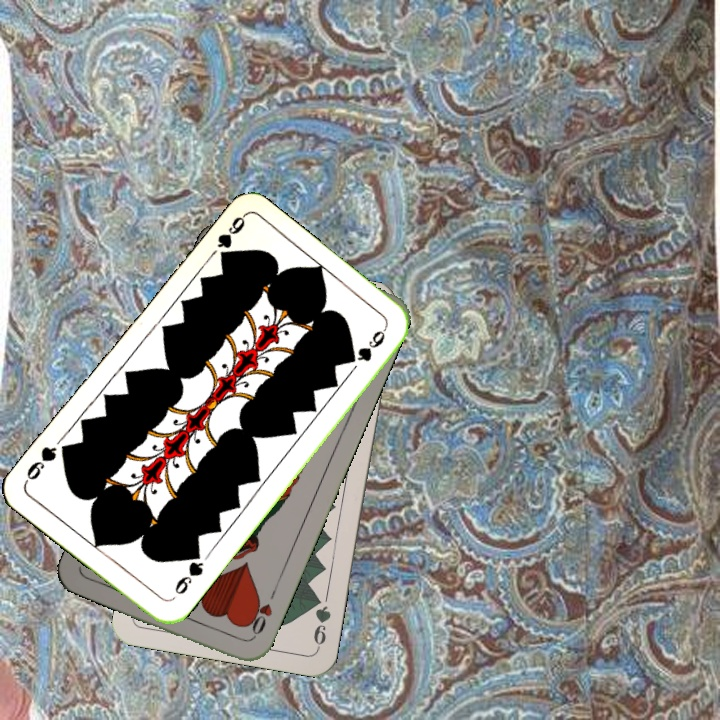G9: (170, 547, 206, 597), (309, 591, 334, 651), (213, 212, 248, 251)
HO: (242, 585, 279, 642)
